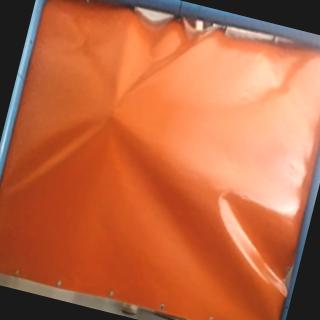Hit-hRxx: (101, 102, 123, 125)
